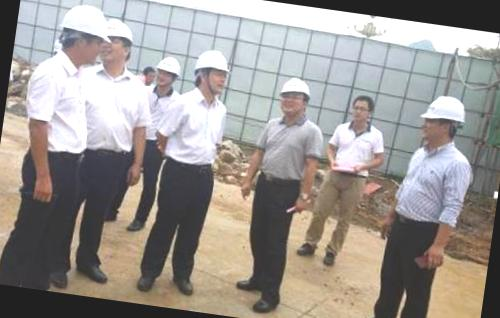no_helmet: (347, 92, 378, 130)
